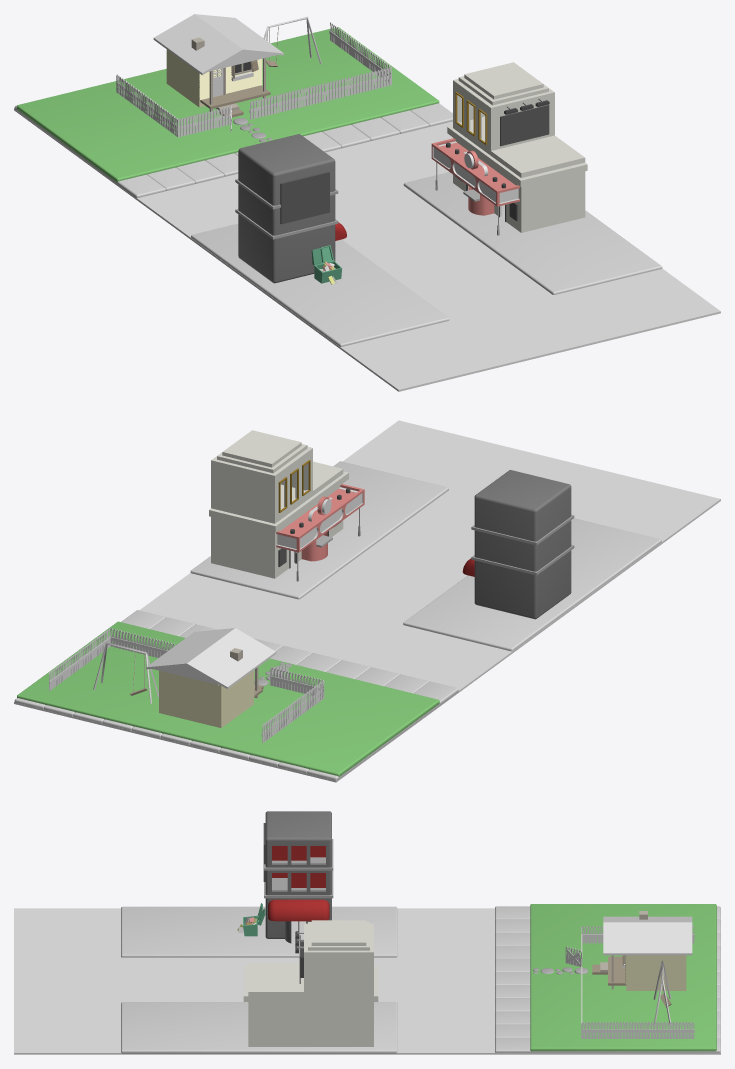
The model's file is basetown.gltf.
3 views of the same model, one above another, from view 1: azimuth 30°, elevation 25°; view 2: azimuth 150°, elevation 25°; view 3: azimuth 270°, elevation 25° (orthographic). The views are drawn at different scales.
Parts seen in each view (by area): view 1: Ground, Grass, Cube (×2), Left_road, Right_road, Theater_Main, Cube.2 (×2), Extrude, Billboard_2 (×2), theater_overhang, Cube.29, Extrude.5 (+8 smaller); view 2: Ground, Grass, Cube (×2), Left_road, Right_road, Cube.2 (×2), Theater_Main, Extrude, theater_overhang, Cube.29, Cube.33, Cube.30 (+6 smaller); view 3: Ground, Grass, Left_road, Right_road, Theater_Main, Cube (×2), Cube.2, Extrude, Cylinder.13, Cube.39, floor2, floor3 (+11 smaller).
Boxes of the visible parts, x1,y1,x2,y2 form: Ground: [14, 108, 720, 391]; Grass: [16, 27, 439, 182]; Cube (×2): [166, 49, 335, 283]; Left_road: [191, 223, 449, 346]; Right_road: [403, 172, 662, 294]; Theater_Main: [453, 116, 585, 232]; Cube.2 (×2): [447, 62, 587, 186]; Extrude: [153, 14, 283, 74]; Billboard_2 (×2): [280, 105, 549, 224]; theater_overhang: [431, 138, 519, 206]; Cube.29: [14, 105, 165, 198]; Extrude.5: [432, 147, 519, 203]; Ground: [14, 420, 720, 782]; Grass: [17, 621, 439, 776]; Cube (×2): [159, 470, 571, 728]; Left_road: [403, 518, 661, 651]; Right_road: [190, 461, 448, 599]; Cube.2 (×2): [209, 430, 348, 532]; Theater_Main: [211, 461, 343, 578]; Extrude: [146, 628, 276, 688]; theater_overhang: [276, 484, 364, 552]; Cube.29: [307, 681, 458, 780]; Cube.33: [190, 653, 341, 751]; Cube.30: [278, 674, 428, 773]; Ground: [14, 908, 720, 1054]; Grass: [530, 904, 716, 1051]; Left_road: [121, 906, 397, 957]; Right_road: [121, 1002, 397, 1053]; Theater_Main: [248, 963, 373, 1046]; Cube (×2): [265, 811, 686, 990]; Cube.2: [304, 920, 373, 991]; Extrude: [603, 916, 692, 955]; Cylinder.13: [268, 899, 329, 921]; Cube.39: [495, 1037, 720, 1052]; floor2: [264, 870, 333, 898]; floor3: [264, 839, 333, 870].
Size of the model in its own units: 52.2 by 17.7 by 108.
